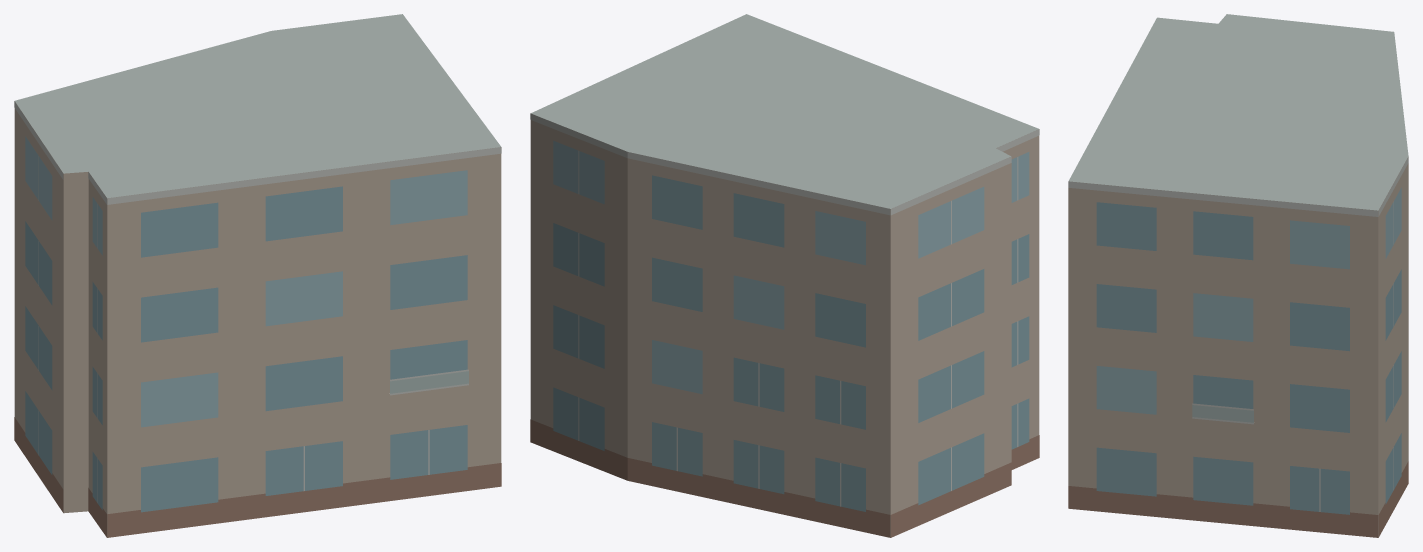
The model's file is survey-upis-32744114.glb.
The picture shows the model from 3 angles, left to right: view 1: azimuth 30°, elevation 25°; view 2: azimuth 150°, elevation 25°; view 3: azimuth 270°, elevation 25°; orthographic projection. The views are drawn at different scales.
Parts seen in each view (by area): view 1: survey-upis-32744114.tmp; view 2: survey-upis-32744114.tmp; view 3: survey-upis-32744114.tmp.
Part boxes in pixels (<box>): survey-upis-32744114.tmp: <box>14,14,501,537</box>; survey-upis-32744114.tmp: <box>530,14,1039,537</box>; survey-upis-32744114.tmp: <box>1068,14,1408,537</box>.
Bounding box in the file's own units: 15.98 × 12.4 × 11.69.
